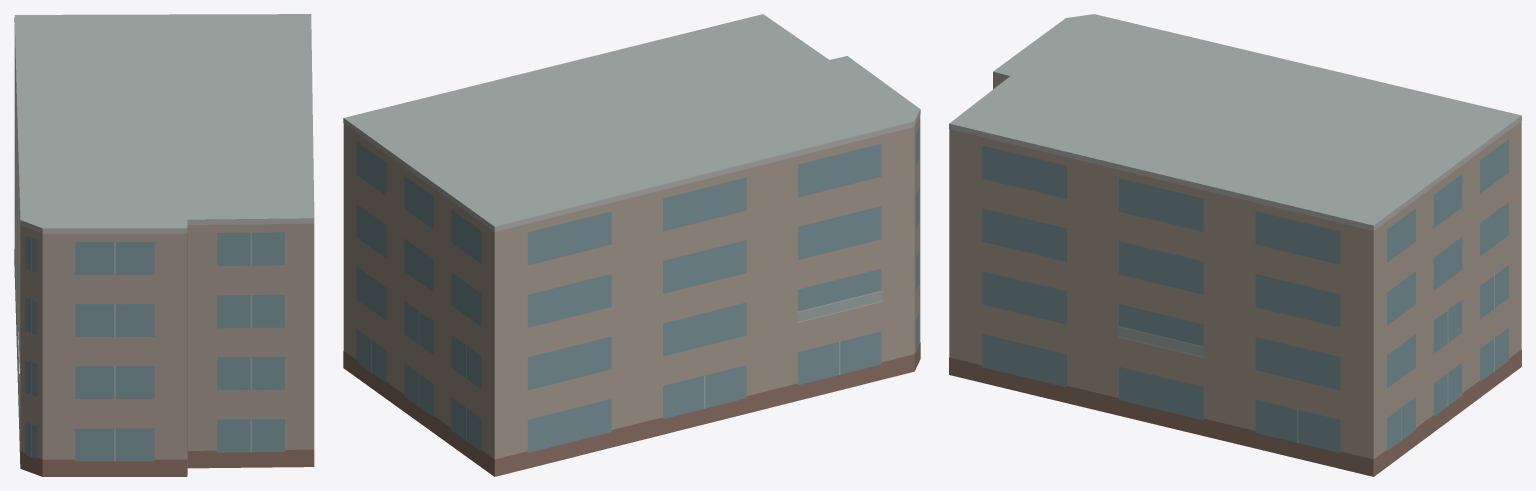
Rendered from survey-upis-33041575.glb.
3 renders of one model, left to right at view 1: azimuth 30°, elevation 25°; view 2: azimuth 150°, elevation 25°; view 3: azimuth 270°, elevation 25°, orthographic.
Visible parts, largest first — view 1: survey-upis-33041575.tmp; view 2: survey-upis-33041575.tmp; view 3: survey-upis-33041575.tmp.
Boxes of the visible parts, x1=… form: survey-upis-33041575.tmp: x1=14, y1=14, x2=314, y2=476; survey-upis-33041575.tmp: x1=343, y1=14, x2=920, y2=476; survey-upis-33041575.tmp: x1=949, y1=14, x2=1521, y2=476.
Size of the model in its own units: 20.42 by 11.3 by 23.35.
